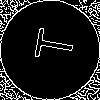T: (25, 25, 76, 64)
